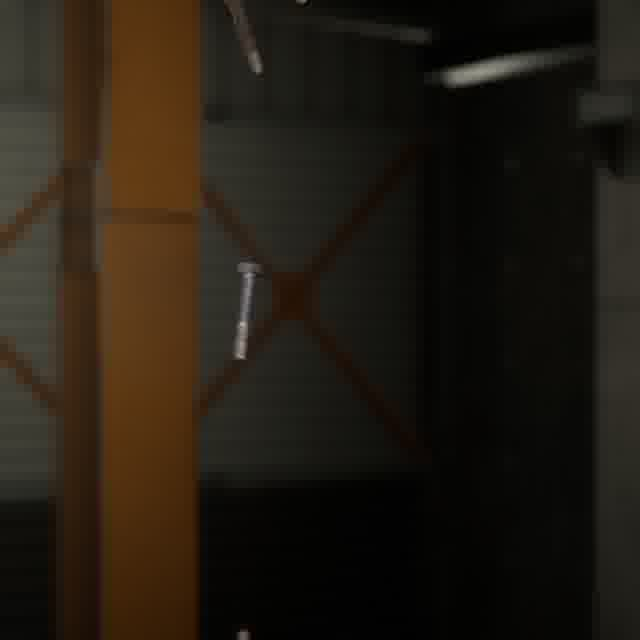bolt: (228, 257, 266, 365), (217, 0, 267, 78)
